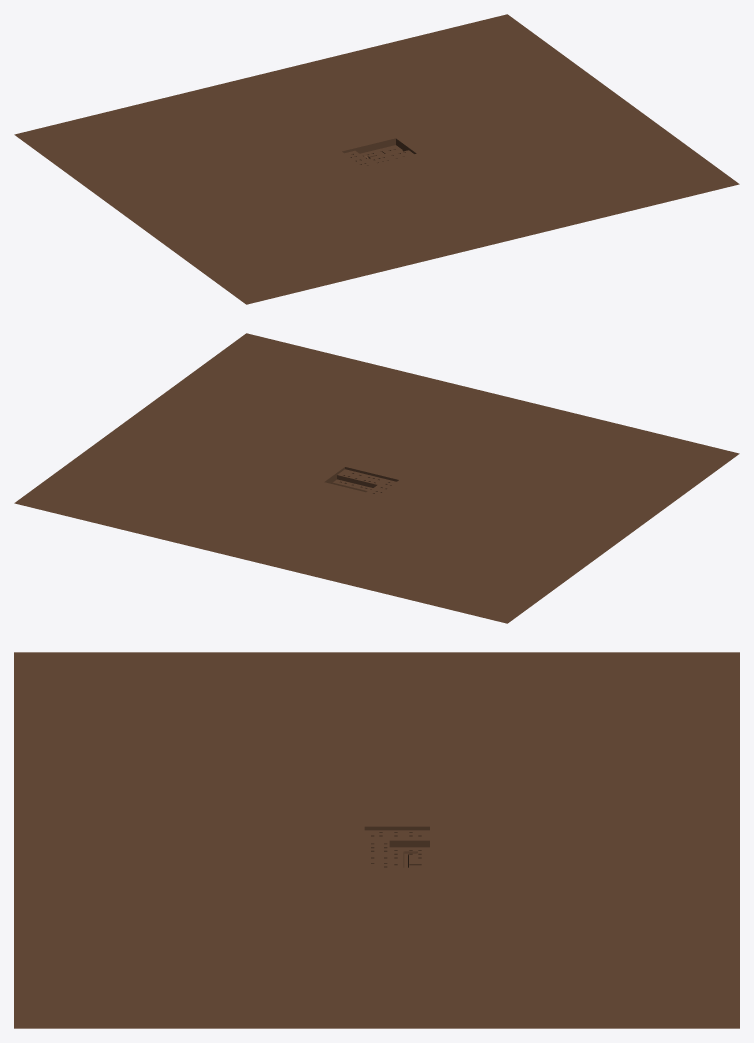
File: Houses.glb
3 renders of one model, top to bottom at view 1: azimuth 30°, elevation 25°; view 2: azimuth 150°, elevation 25°; view 3: azimuth 270°, elevation 25°, orthographic. The views are drawn at different scales.
Parts seen in each view (by area): view 1: Site.cleaning.003; view 2: Site.cleaning.003; view 3: Site.cleaning.003.
Boxes of the visible parts, bbox=[...] form: Site.cleaning.003: bbox=[14, 14, 739, 304]; Site.cleaning.003: bbox=[14, 333, 739, 623]; Site.cleaning.003: bbox=[14, 652, 739, 1028].
Size of the model in its own units: 243 by 3.73 by 198.
